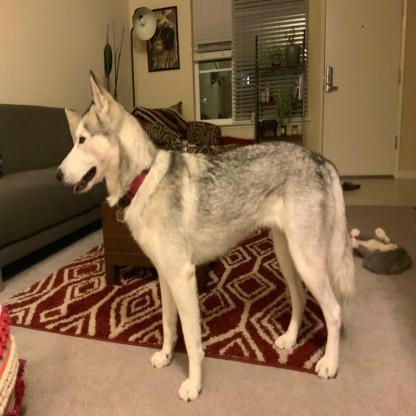husky: (56, 72, 358, 402)
